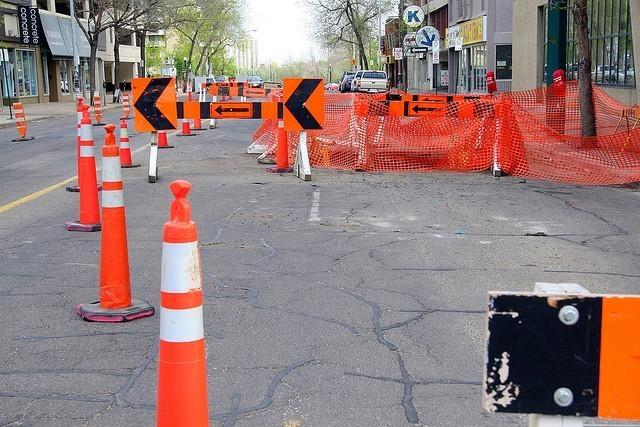car: (351, 68, 384, 92), (358, 72, 392, 92), (338, 72, 356, 90), (248, 76, 262, 87), (206, 78, 218, 90), (213, 75, 229, 83), (324, 82, 338, 90)
